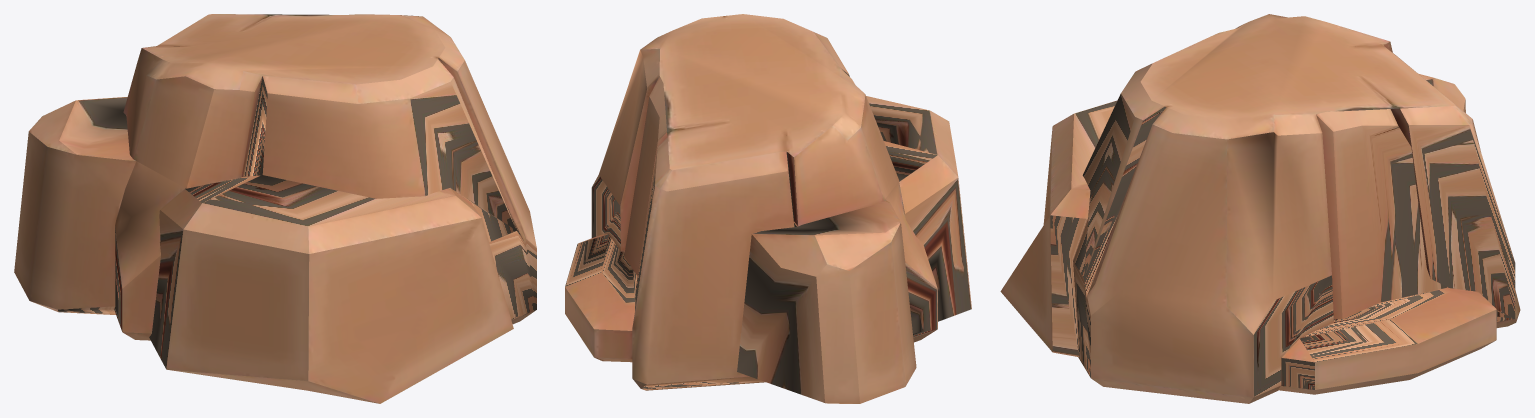
Rendered from desert-rock-12.glb.
3 renders of one model, left to right at view 1: azimuth 30°, elevation 25°; view 2: azimuth 150°, elevation 25°; view 3: azimuth 270°, elevation 25°, orthographic. The views are drawn at different scales.
Visible parts, largest first — view 1: Rock_12; view 2: Rock_12; view 3: Rock_12.
Part boxes in pixels (x1,y1,x2,y2): Rock_12: [14, 14, 536, 403]; Rock_12: [565, 14, 971, 403]; Rock_12: [1000, 14, 1520, 403].
Size of the model in its own units: 2.92 by 1.8 by 3.25.
Materials: 1 (1 with a texture image).
